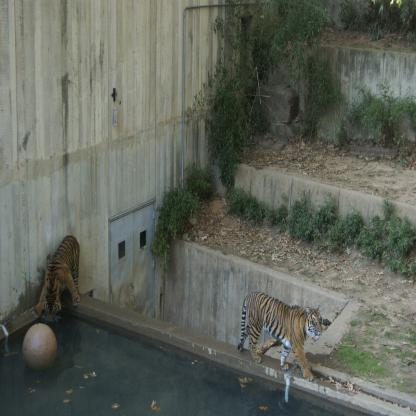tiger: (302, 302, 327, 348), (39, 289, 63, 324)
